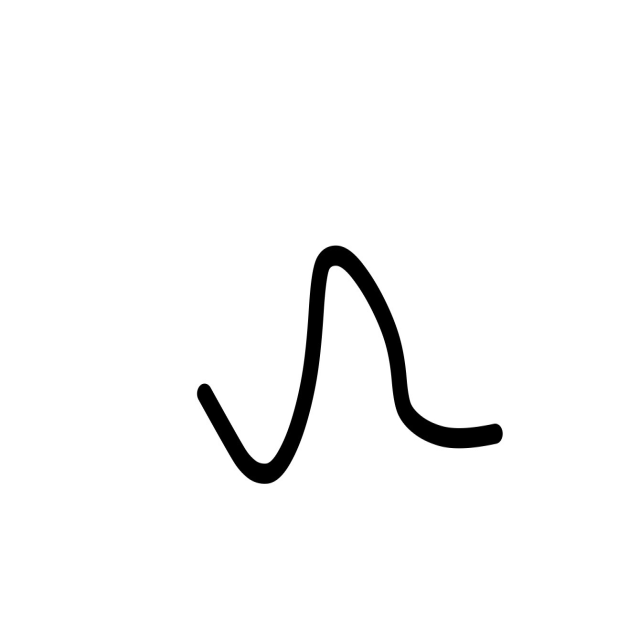ohms: (101, 124, 577, 559)
